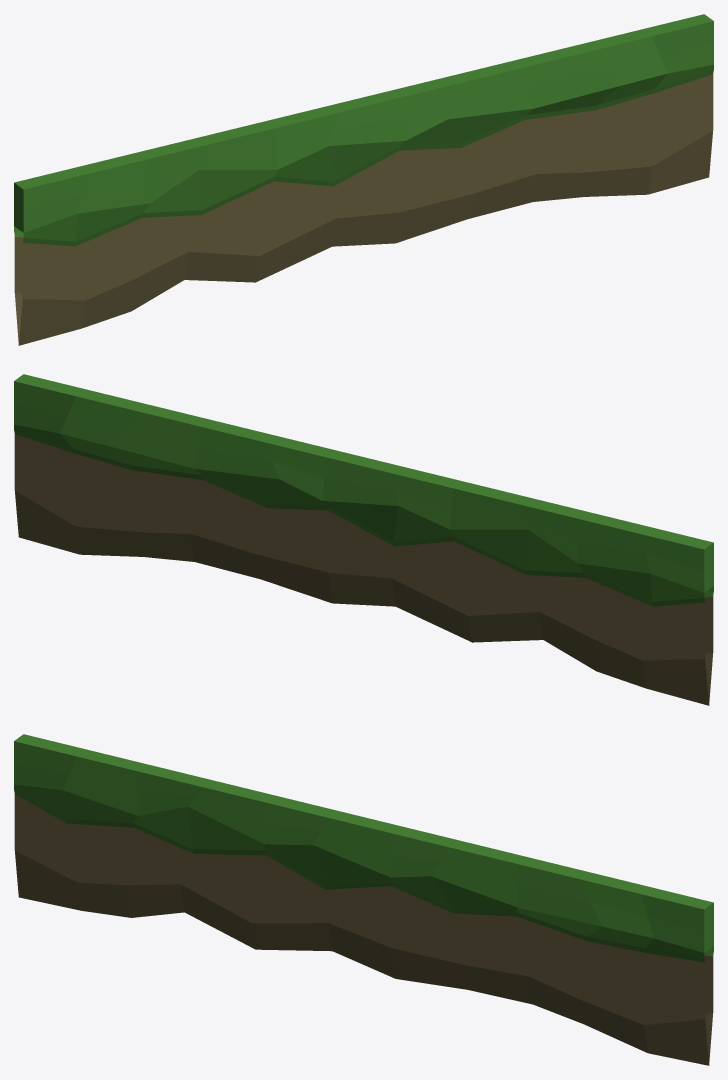
Rendered from GroundHill.fbx.
The picture shows the model from 3 angles, top to bottom: view 1: azimuth 30°, elevation 25°; view 2: azimuth 150°, elevation 25°; view 3: azimuth 330°, elevation 25°; orthographic projection.
Parts seen in each view (by area): view 1: GroundHill; view 2: GroundHill; view 3: GroundHill.
Part boxes in pixels (left/top/right/bottom): GroundHill: left=14, top=14, right=713, bottom=345; GroundHill: left=14, top=374, right=713, bottom=705; GroundHill: left=14, top=734, right=713, bottom=1065.
Bounding box in the file's own units: 49.97 × 11.21 × 2.24.
